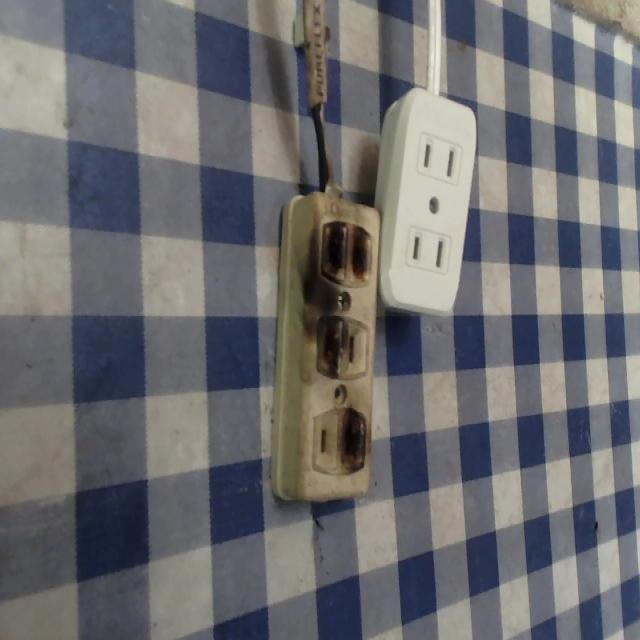-: (314, 211, 377, 297), (307, 306, 345, 386), (334, 398, 370, 482)
